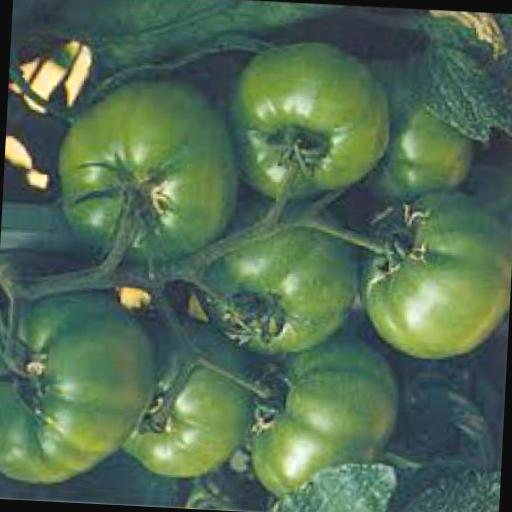biodegradable: (50, 73, 237, 269), (0, 269, 159, 490), (350, 164, 512, 365), (184, 184, 370, 356), (11, 0, 334, 99), (224, 36, 398, 208), (240, 327, 401, 503), (116, 305, 254, 478), (352, 48, 472, 206), (408, 10, 512, 149)
